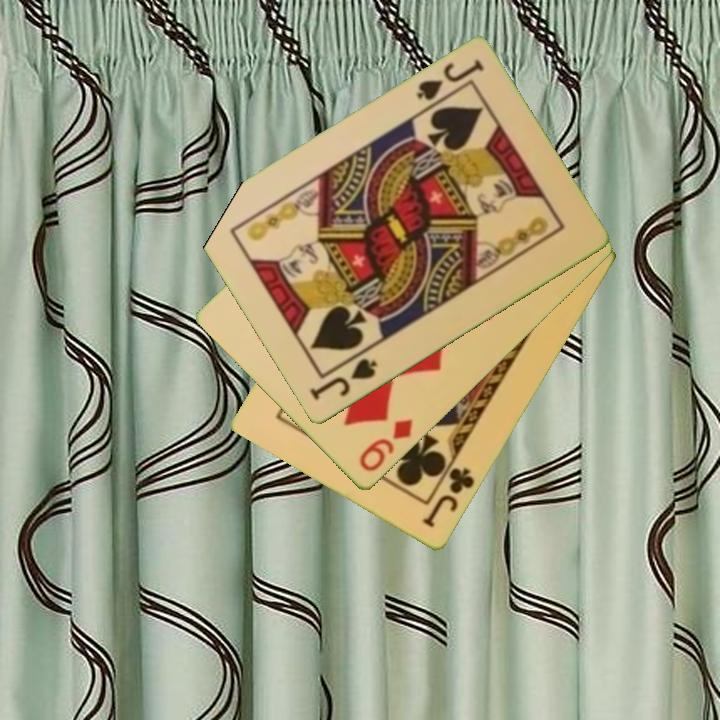9d: (356, 416, 416, 475)
Jc: (419, 464, 478, 532)
Js: (306, 355, 381, 404), (412, 56, 487, 104)
